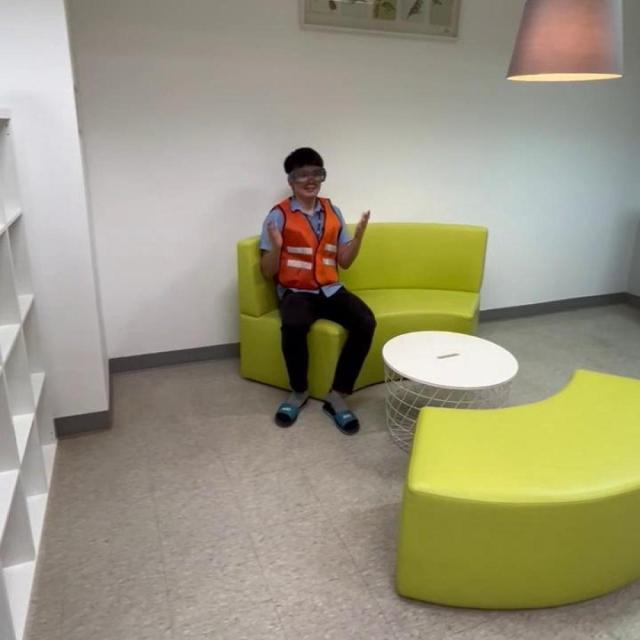bare_hand: (264, 216, 286, 250), (351, 205, 371, 240)
